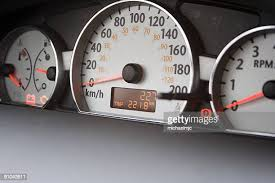Digital_Meter: (108, 88, 158, 109)
